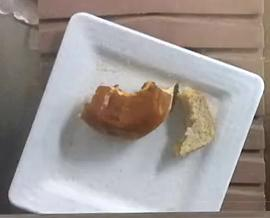bread: (173, 89, 215, 156)
burger: (82, 81, 171, 139)
